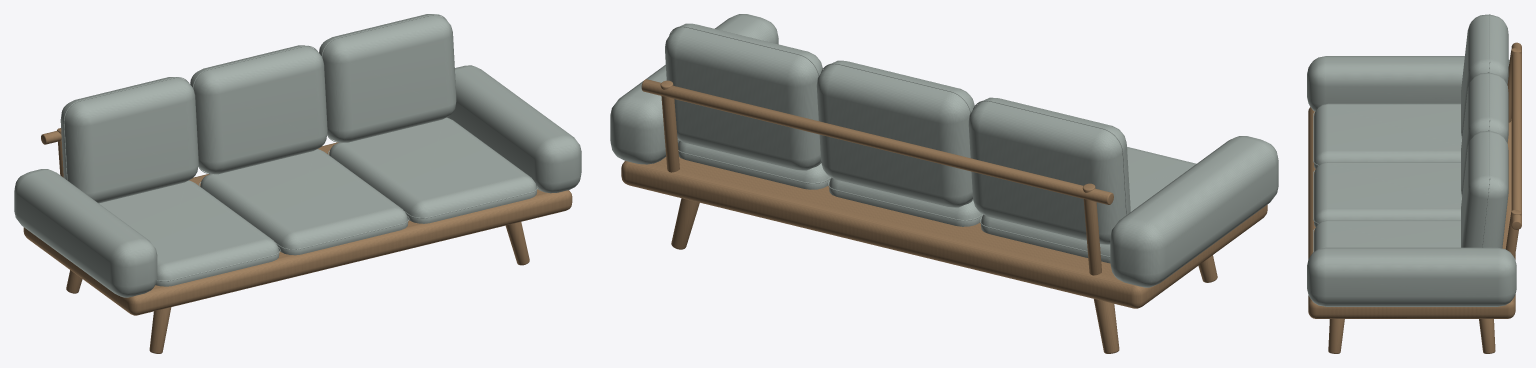
File: original-sofa.glb
The picture shows the model from 3 angles, left to right: view 1: azimuth 30°, elevation 25°; view 2: azimuth 150°, elevation 25°; view 3: azimuth 270°, elevation 25°; orthographic projection. The views are drawn at different scales.
Parts seen in each view (by area): view 1: Upholstered back.001, Upholstered back.002, Upholstered back, Tailored seat cushion.002, Tailored seat cushion.001, Seat frame, Tailored seat cushion, Rounded arm, Rounded arm.001, Tapered support, Tapered support.002; view 2: Seat frame, Upholstered back.001, Upholstered back, Upholstered back.002, Rounded arm, Back frame rail, Rounded arm.001, Tailored seat cushion, Tailored seat cushion.001, Tailored seat cushion.002, Back frame upright.001, Back frame upright (+2 smaller); view 3: Rounded arm.001, Tailored seat cushion, Tailored seat cushion.001, Rounded arm, Upholstered back.002, Tailored seat cushion.002, Seat frame, Upholstered back, Upholstered back.001, Back frame rail, Tapered support.002, Tapered support.003 (+3 smaller).
Boxes of the visible parts, x1,y1,x2,y2 form: Upholstered back.001: (190, 45, 327, 174); Upholstered back.002: (319, 14, 456, 142); Upholstered back: (60, 77, 198, 203); Tailored seat cushion.002: (329, 117, 536, 223); Tailored seat cushion.001: (200, 149, 408, 255); Seat frame: (23, 142, 572, 315); Tailored seat cushion: (99, 180, 279, 286); Rounded arm: (14, 169, 157, 297); Rounded arm.001: (447, 65, 581, 193); Tapered support: (149, 307, 171, 353); Tapered support.002: (505, 222, 529, 265); Seat frame: (621, 157, 1267, 308); Upholstered back.001: (816, 60, 974, 207); Upholstered back: (968, 97, 1130, 244); Upholstered back.002: (665, 23, 822, 170); Rounded arm: (1110, 136, 1278, 287); Back frame rail: (641, 79, 1113, 204); Rounded arm.001: (610, 14, 778, 164); Tailored seat cushion: (981, 147, 1196, 263); Tailored seat cushion.001: (829, 178, 983, 226); Tailored seat cushion.002: (678, 141, 831, 189); Back frame upright.001: (660, 80, 679, 172); Back frame upright: (1082, 183, 1101, 275); Rounded arm.001: (1307, 247, 1516, 306); Tailored seat cushion: (1314, 103, 1461, 168); Tailored seat cushion.001: (1314, 162, 1461, 226); Rounded arm: (1307, 56, 1509, 111); Upholstered back.002: (1461, 131, 1508, 248); Tailored seat cushion.002: (1314, 220, 1460, 251); Seat frame: (1308, 107, 1515, 318); Upholstered back: (1461, 14, 1508, 138); Upholstered back.001: (1461, 72, 1508, 196); Back frame rail: (1511, 42, 1521, 229); Tapered support.002: (1328, 319, 1344, 353); Tapered support.003: (1479, 319, 1495, 353).
Bounding box in the file's own units: 2.1 × 0.8105 × 0.9.
Materials: 3 (2 with a texture image).
